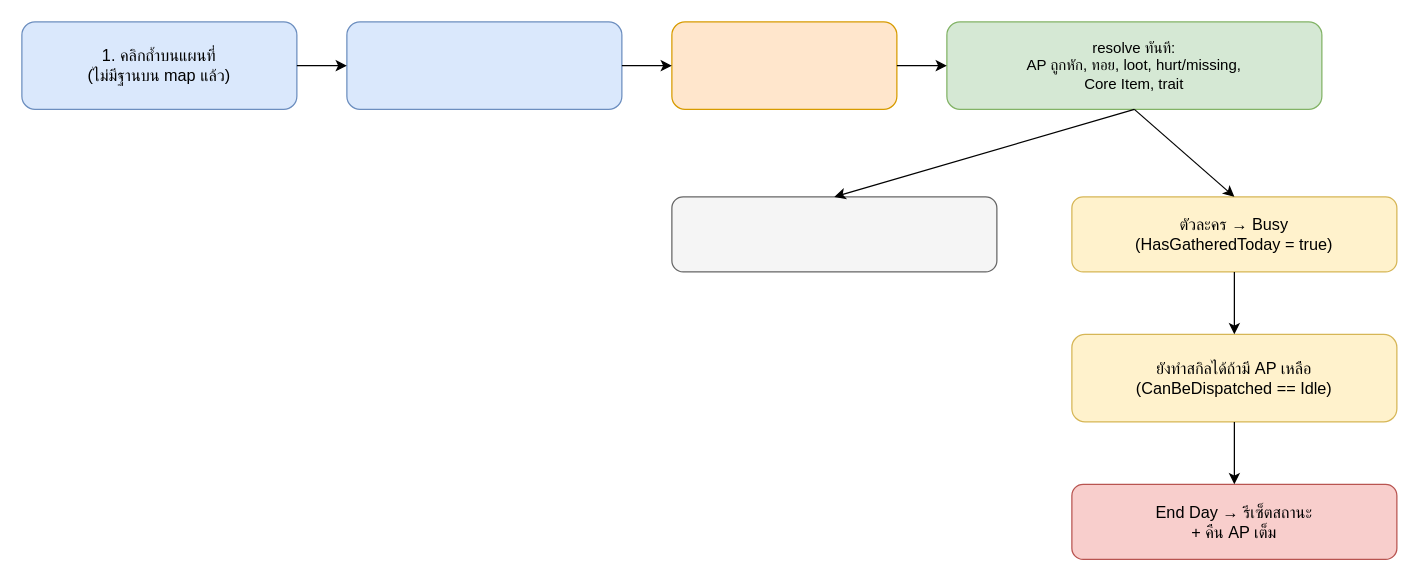
The diagram is 1419 pixels wide and 581 high, and some of its shapes have lost their labels. Each missing label, with the centre of its shape:
"2. เลือกการ์ด 1-2 ใบ (CanBeSentGathering)" goes at (x=484, y=65).
"3. ปุ่ม Dispatch" goes at (x=784, y=65).
"log ขึ้นทันที (ผลลัพธ์ + สถานะใหม่)" goes at (x=834, y=234).
